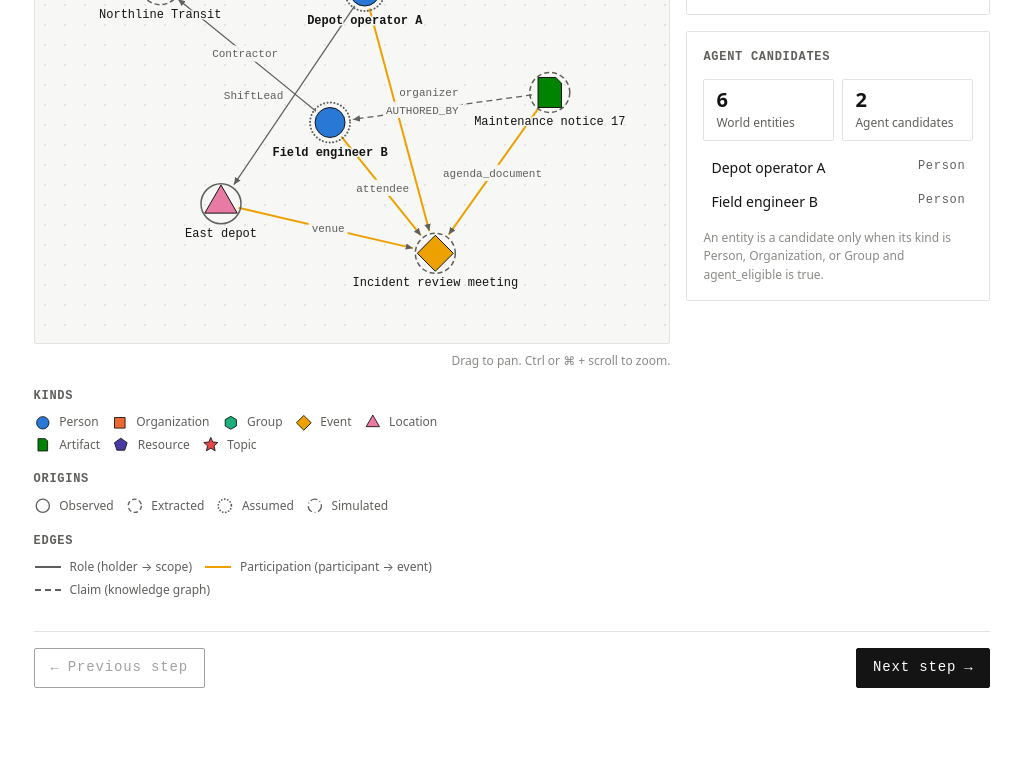
ProcessView › completes step 1 automatically once the project has a world, then advances to step 2
(page scrolled)
Step 1. Click the button with test id "next-step" → {"x": 923, "y": 668}, box x1=856 y1=648 x2=990 y2=688
(page scrolled)
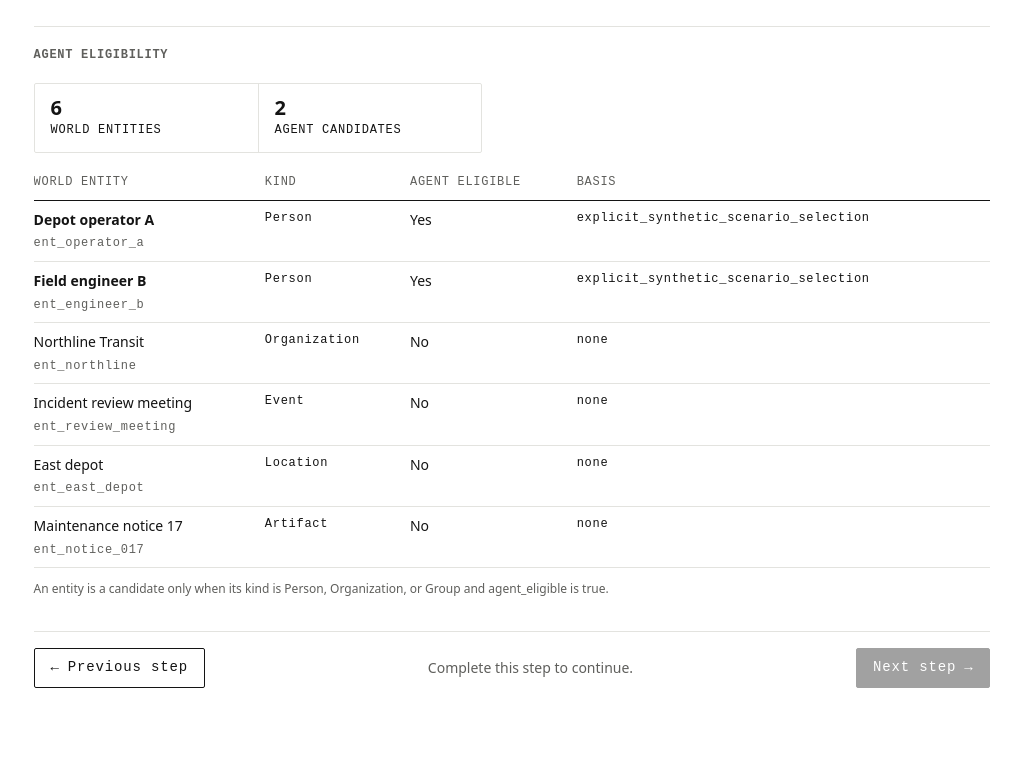
Now the button with test id "next-step" is disabled, box x1=856 y1=648 x2=990 y2=688
